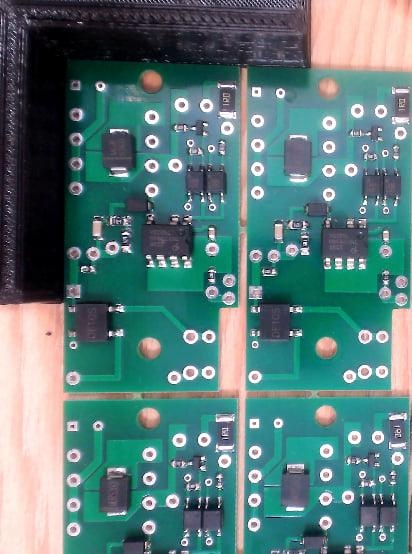chip-capacitor: (91, 214, 106, 241), (271, 217, 285, 244), (207, 224, 217, 242), (382, 227, 391, 244)
chip-resistor: (214, 412, 236, 454), (216, 79, 238, 120), (390, 85, 411, 127), (387, 411, 408, 451), (120, 229, 133, 255), (285, 218, 311, 231), (106, 215, 132, 227), (299, 231, 311, 256), (169, 457, 187, 469), (260, 266, 279, 277), (215, 472, 225, 492), (79, 264, 97, 275), (344, 455, 362, 466), (207, 266, 217, 285), (183, 482, 202, 492), (358, 478, 377, 488), (388, 469, 398, 488), (171, 123, 189, 133), (217, 139, 227, 157), (381, 268, 391, 286), (347, 128, 365, 138), (186, 147, 204, 156), (392, 143, 401, 161), (363, 152, 379, 161)
diode: (101, 127, 138, 178), (97, 466, 133, 518), (281, 462, 311, 513), (283, 133, 313, 184), (119, 538, 151, 554), (124, 197, 155, 213), (303, 202, 333, 217), (299, 534, 327, 550)
ic: (140, 213, 195, 270), (321, 217, 369, 272), (66, 301, 126, 343), (249, 301, 304, 342), (185, 162, 206, 203), (183, 496, 203, 539), (206, 162, 226, 204), (204, 496, 224, 538), (362, 167, 382, 207), (382, 167, 402, 207), (358, 493, 377, 534), (378, 493, 397, 533)
transistor: (187, 454, 209, 473), (189, 119, 210, 138), (362, 450, 382, 469), (365, 125, 385, 143)
